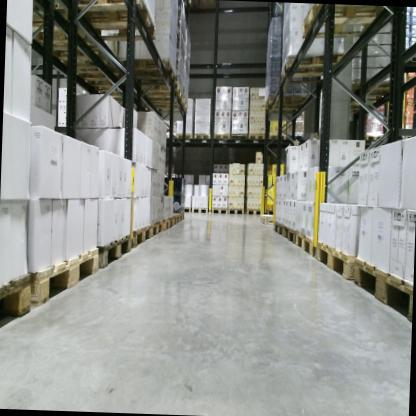pallet: (26, 240, 103, 312), (350, 252, 414, 324), (65, 0, 159, 48), (300, 5, 399, 40), (25, 21, 98, 56), (278, 49, 346, 86), (0, 269, 38, 331), (51, 46, 119, 80), (314, 239, 357, 284), (121, 56, 178, 89), (95, 230, 135, 275), (261, 92, 313, 119), (347, 77, 393, 104), (27, 0, 76, 24), (140, 81, 183, 104), (293, 229, 313, 259), (151, 96, 189, 111), (131, 222, 152, 248), (150, 219, 164, 241), (281, 226, 296, 246), (271, 217, 285, 237), (162, 213, 174, 233), (176, 131, 193, 145), (261, 213, 278, 226), (268, 130, 288, 141), (193, 130, 211, 142), (402, 54, 416, 68), (214, 130, 231, 141), (191, 206, 209, 216), (248, 132, 266, 142), (171, 210, 181, 228), (211, 208, 228, 218), (227, 208, 245, 217), (229, 133, 248, 141), (246, 208, 264, 216), (181, 206, 191, 213), (179, 213, 185, 223)
